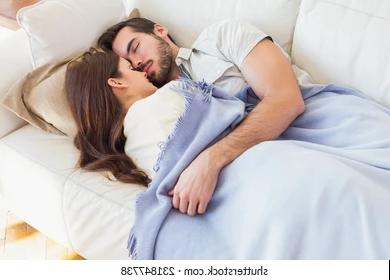blanket: (127, 74, 390, 260)
short sleeve shirt: (172, 15, 321, 97)
